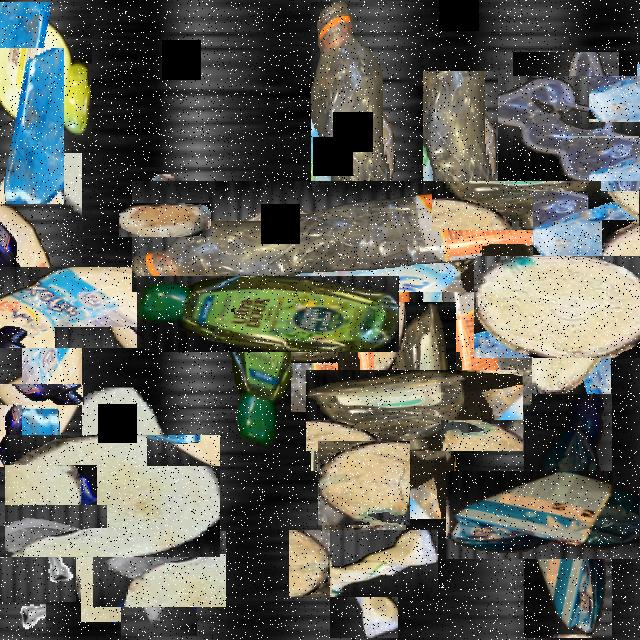glass: (106, 516, 212, 622), (0, 48, 64, 204), (553, 170, 640, 277), (81, 512, 143, 622)
metal: (0, 541, 61, 617)
plastic: (222, 91, 512, 382), (338, 71, 498, 377), (304, 210, 518, 426), (183, 230, 353, 399), (0, 209, 138, 405), (484, 432, 640, 598), (340, 336, 490, 485), (502, 63, 630, 193), (0, 2, 92, 140), (310, 509, 418, 618), (0, 352, 53, 436)
wood: (28, 411, 196, 581), (491, 238, 629, 376), (320, 439, 408, 528), (133, 189, 197, 252), (601, 99, 640, 174)
